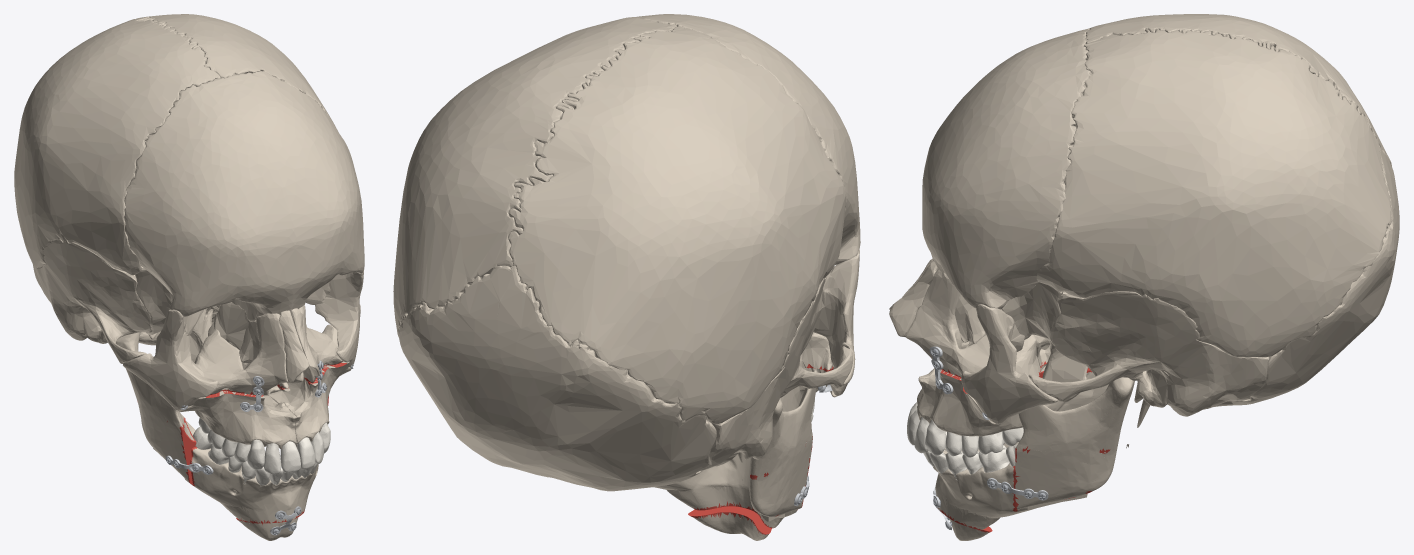
The model's file is class3-after-genio.glb.
3 renders of one model, left to right at view 1: azimuth 30°, elevation 25°; view 2: azimuth 150°, elevation 25°; view 3: azimuth 270°, elevation 25°, orthographic. The views are drawn at different scales.
Visible parts, largest first — view 1: bone, moved, teeth, plate, cut, screw; view 2: bone, moved, cut; view 3: bone, moved, teeth, plate, cut.
Boxes of the visible parts, x1,y1,x2,y2 form: bone: [14, 14, 364, 481]; moved: [153, 361, 351, 540]; teeth: [193, 418, 330, 486]; plate: [165, 360, 353, 535]; cut: [137, 361, 346, 524]; screw: [166, 362, 353, 534]; bone: [393, 14, 860, 516]; moved: [654, 365, 837, 540]; cut: [688, 364, 833, 534]; bone: [889, 14, 1399, 509]; moved: [917, 364, 1128, 540]; teeth: [907, 402, 1023, 480]; plate: [929, 346, 1048, 530]; cut: [938, 361, 1110, 532].
Size of what is drawn, in the model's own units: 0.1482 by 0.2221 by 0.2035.
